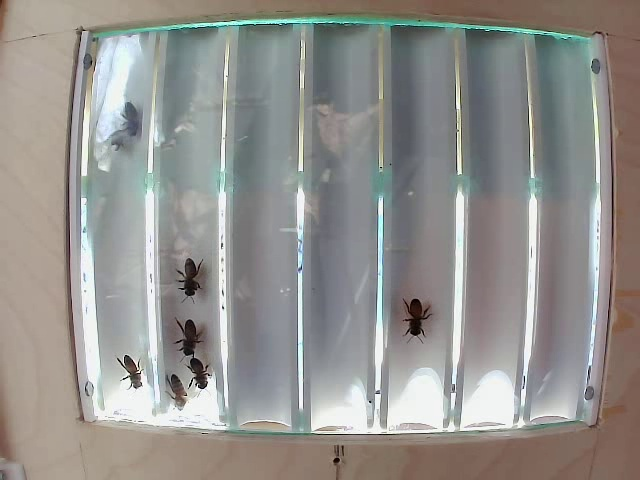bee: (109, 92, 153, 140), (396, 296, 434, 340), (190, 354, 224, 396), (161, 363, 192, 408), (119, 356, 157, 392), (181, 249, 208, 295), (172, 310, 196, 356)
